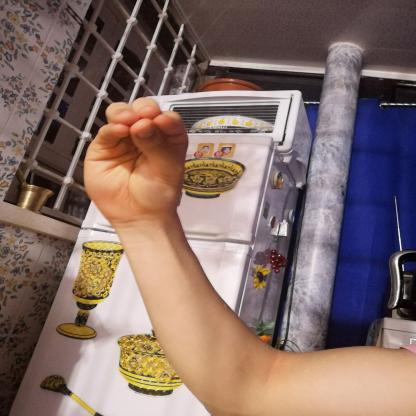HA: (64, 92, 204, 233)
